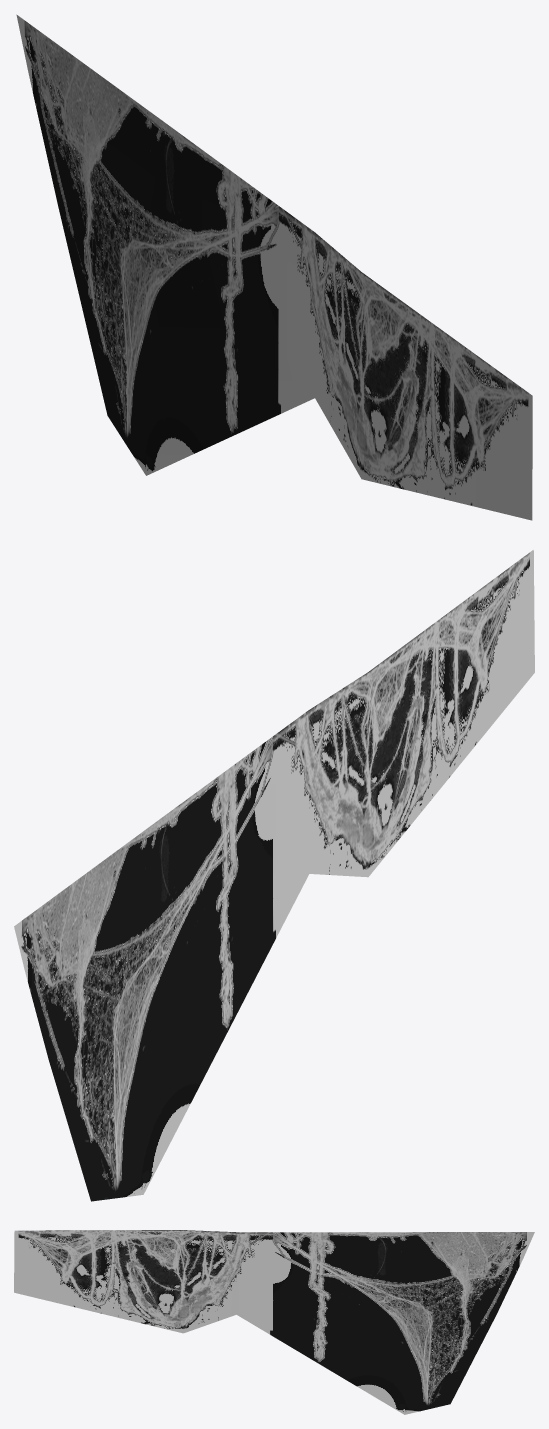
The model's file is SM_Spiderweb_04.gltf.
The picture shows the model from 3 angles, top to bottom: view 1: azimuth 30°, elevation 25°; view 2: azimuth 150°, elevation 25°; view 3: azimuth 270°, elevation 25°; orthographic projection. The views are drawn at different scales.
Parts seen in each view (by area): view 1: SM_Spiderweb_04_LOD0; view 2: SM_Spiderweb_04_LOD0; view 3: SM_Spiderweb_04_LOD0.
Boxes of the visible parts, x1,y1,x2,y2 form: SM_Spiderweb_04_LOD0: (16,14,532,520); SM_Spiderweb_04_LOD0: (14,550,534,1201); SM_Spiderweb_04_LOD0: (14,1230,534,1414).
Size of what is drawn, in the model's own units: 0.0267 by 0.7194 by 1.85.
